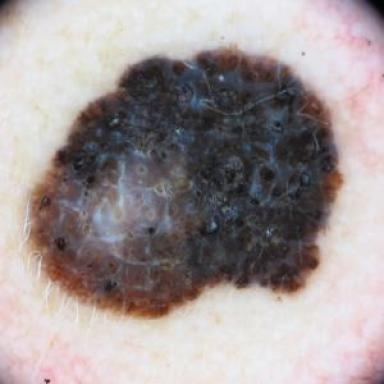Melanoma: (29, 49, 341, 316)
